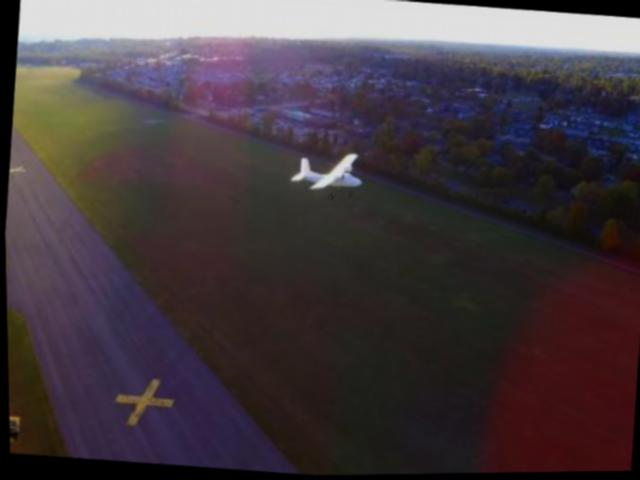uav: (288, 147, 364, 196)
